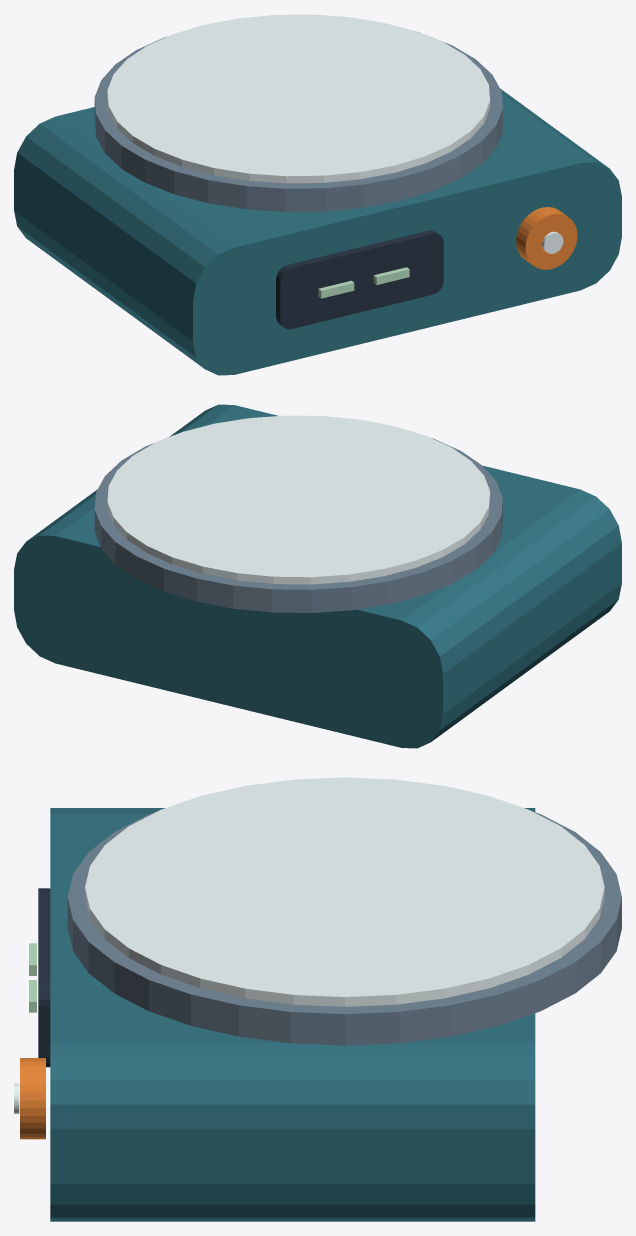
The model's file is scale.glb.
3 views of the same model, one above another, from view 1: azimuth 30°, elevation 25°; view 2: azimuth 150°, elevation 25°; view 3: azimuth 270°, elevation 25° (orthographic). The views are drawn at different scales.
Visible parts, largest first — view 1: base, plate face, weighing plate, screen, tare key; view 2: base, plate face, weighing plate; view 3: base, plate face, weighing plate, screen, tare key.
Boxes of the visible parts, x1=… form: base: x1=14, y1=32, x2=621, y2=375; plate face: x1=107, y1=14, x2=490, y2=183; weighing plate: x1=94, y1=35, x2=502, y2=211; screen: x1=276, y1=230, x2=443, y2=329; tare key: x1=516, y1=207, x2=577, y2=269; base: x1=14, y1=404, x2=621, y2=748; plate face: x1=107, y1=415, x2=490, y2=584; weighing plate: x1=94, y1=438, x2=502, y2=612; base: x1=50, y1=808, x2=535, y2=1221; plate face: x1=85, y1=777, x2=604, y2=1006; weighing plate: x1=67, y1=811, x2=621, y2=1045; screen: x1=38, y1=888, x2=50, y2=1067; tare key: x1=20, y1=1058, x2=45, y2=1139.
Bounding box in the file's own units: 1.55 × 0.545 × 1.4.
